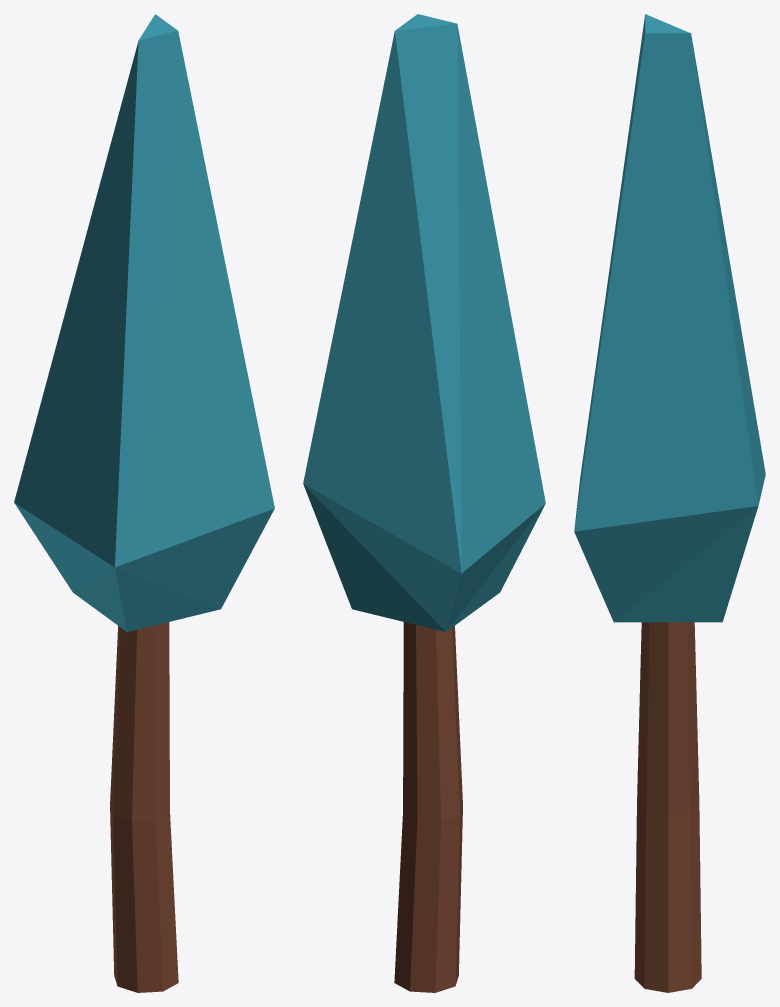
File: Tree_49_summer_blue_vc.fbx
3 renders of one model, left to right at view 1: azimuth 30°, elevation 25°; view 2: azimuth 150°, elevation 25°; view 3: azimuth 270°, elevation 25°, orthographic.
Parts seen in each view (by area): view 1: Tree_49_summer_blue_vc; view 2: Tree_49_summer_blue_vc; view 3: Tree_49_summer_blue_vc.
Boxes of the visible parts, bbox=[...] form: Tree_49_summer_blue_vc: bbox=[14, 14, 274, 992]; Tree_49_summer_blue_vc: bbox=[303, 14, 545, 992]; Tree_49_summer_blue_vc: bbox=[574, 14, 765, 992].
Size of the model in its own units: 47.16 by 259 by 47.16.
